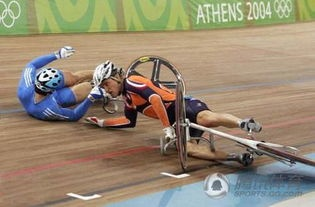falling: (9, 37, 107, 123)
